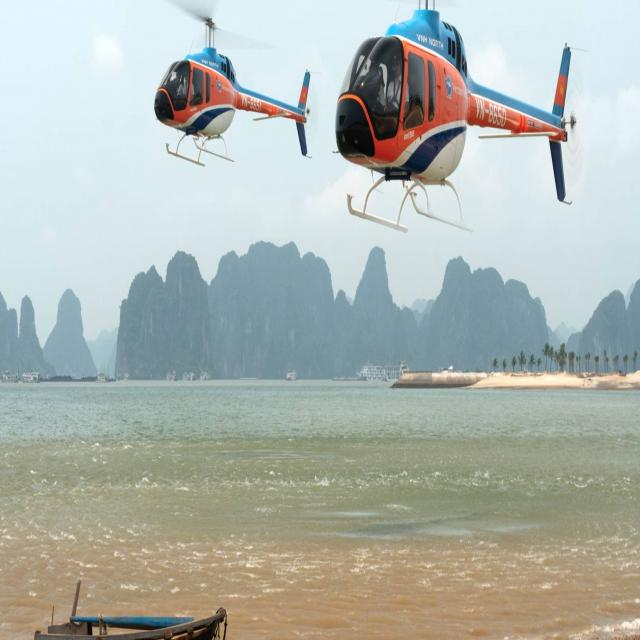helicopter: (327, 1, 585, 237), (135, 1, 315, 194)
